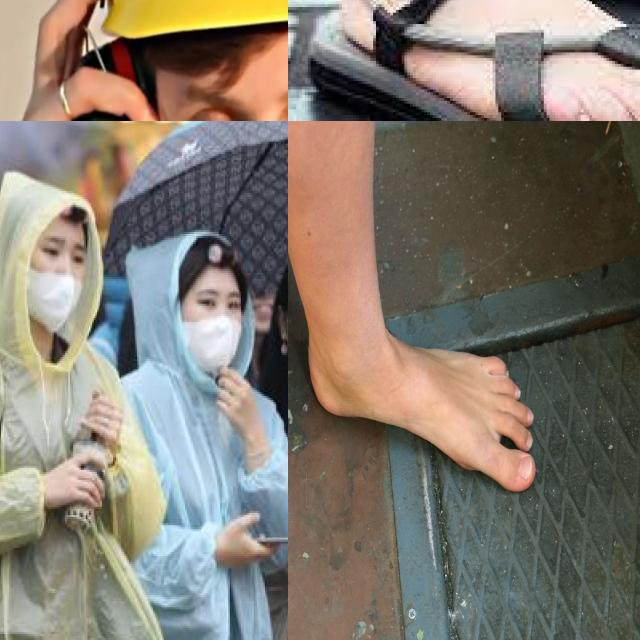Barefoots: (308, 329, 536, 492)
Ear-protection: (62, 0, 288, 121)
No_Glasses: (159, 54, 288, 121)
Sandals: (303, 0, 640, 121)
face_mask: (25, 226, 89, 334), (180, 279, 246, 374)
hand_noglove: (52, 446, 110, 514), (215, 508, 272, 565), (81, 387, 124, 446), (214, 363, 254, 421)
head_nohelmet: (22, 178, 92, 228), (174, 236, 241, 287)
person: (109, 232, 288, 640), (0, 170, 141, 640)
